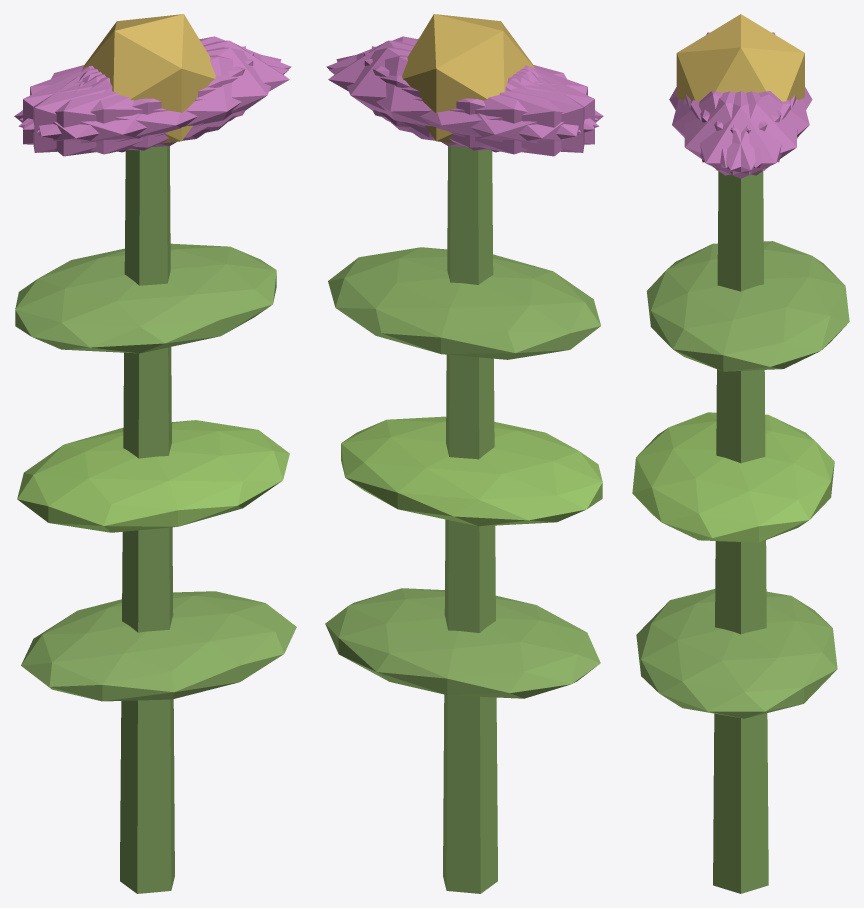
The model's file is euphorbia-tithymaloides.glb.
3 views of the same model, side by side, from view 1: azimuth 30°, elevation 25°; view 2: azimuth 150°, elevation 25°; view 3: azimuth 270°, elevation 25° (orthographic).
Visible parts, largest first — view 1: stem, leaf1, leaf0, leaf2, center, petal1, petal6, petal2, petal5, petal7, petal0, petal4 (+2 smaller); view 2: stem, leaf2, leaf0, leaf1, center, petal8, petal3, petal7, petal4, petal2, petal0, petal5 (+2 smaller); view 3: stem, leaf2, leaf0, leaf1, center, petal0, petal4, petal5, petal1, petal8.
Boxes of the visible parts, left/top/right/bottom form: stem: left=120, top=146, right=174, bottom=893; leaf1: left=17, top=420, right=289, bottom=532; leaf0: left=21, top=591, right=296, bottom=701; leaf2: left=15, top=243, right=276, bottom=353; center: left=82, top=14, right=215, bottom=143; petal1: left=18, top=55, right=288, bottom=154; petal6: left=14, top=67, right=209, bottom=156; petal2: left=33, top=46, right=246, bottom=152; petal5: left=37, top=47, right=281, bottom=147; petal7: left=23, top=52, right=253, bottom=150; petal0: left=82, top=40, right=289, bottom=137; petal4: left=20, top=36, right=291, bottom=129; stem: left=443, top=146, right=497, bottom=893; leaf2: left=328, top=247, right=600, bottom=359; leaf0: left=325, top=588, right=600, bottom=698; leaf1: left=341, top=416, right=602, bottom=526; center: left=402, top=14, right=535, bottom=143; petal8: left=329, top=55, right=599, bottom=154; petal3: left=407, top=67, right=603, bottom=156; petal7: left=371, top=46, right=584, bottom=152; petal4: left=336, top=47, right=580, bottom=147; petal2: left=364, top=52, right=594, bottom=150; petal0: left=328, top=40, right=535, bottom=137; petal5: left=326, top=36, right=597, bottom=129; stem: left=713, top=171, right=768, bottom=893; leaf2: left=646, top=241, right=849, bottom=371; leaf0: left=636, top=589, right=837, bottom=718; leaf1: left=632, top=412, right=834, bottom=542; center: left=676, top=14, right=804, bottom=101; petal0: left=686, top=91, right=795, bottom=178; petal4: left=690, top=91, right=797, bottom=175; petal5: left=684, top=91, right=790, bottom=175; petal1: left=672, top=91, right=781, bottom=167; petal8: left=700, top=91, right=809, bottom=167.
Size of the model in its own units: 0.1452 by 0.4482 by 0.1037.
